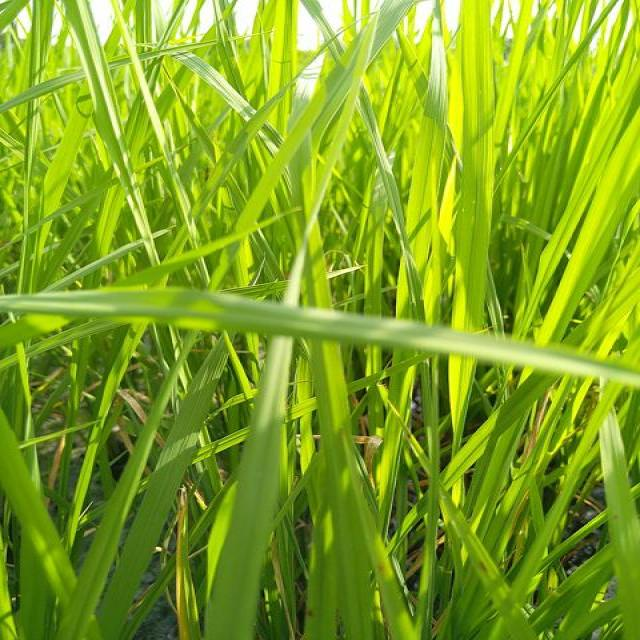Rice: (73, 336, 221, 640), (532, 50, 640, 352), (309, 320, 410, 640), (95, 8, 192, 270), (202, 335, 284, 640), (444, 0, 488, 417), (207, 134, 301, 289), (292, 6, 406, 132), (400, 19, 446, 316), (27, 83, 92, 282), (595, 402, 640, 640), (270, 0, 296, 122)
